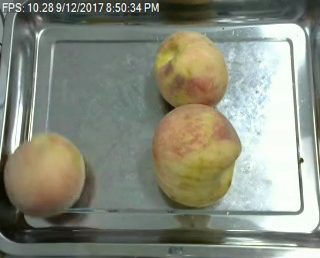Peach: (153, 102, 243, 206), (3, 131, 87, 217), (153, 29, 228, 108)
